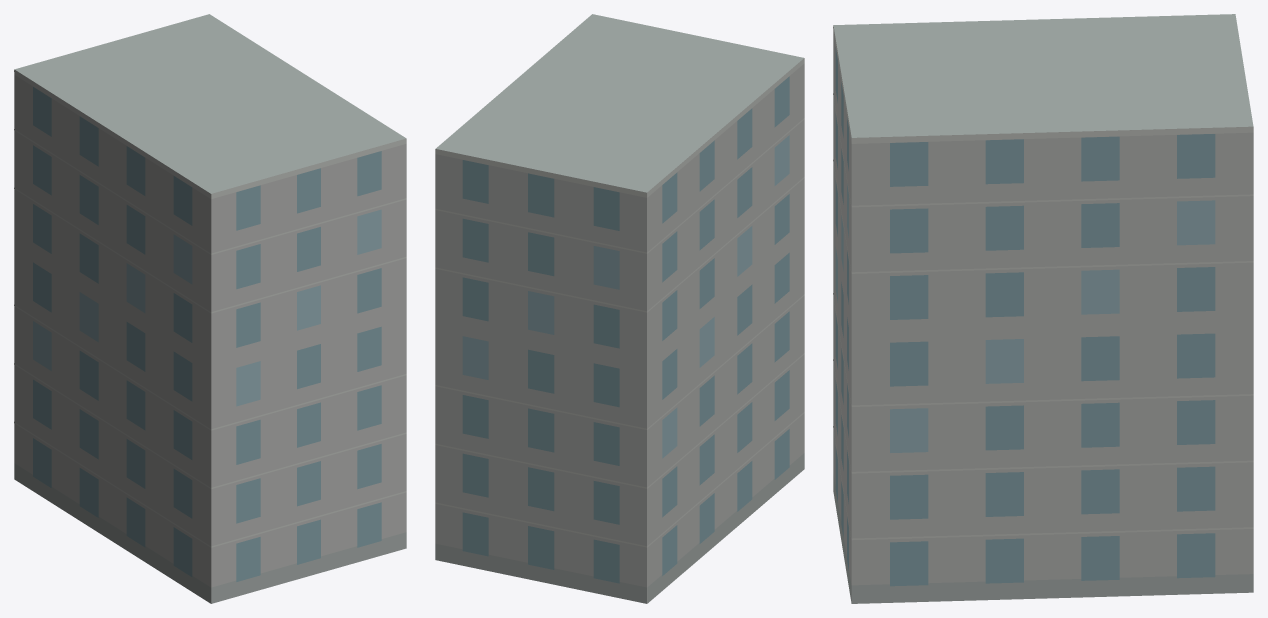
Rendered from survey-upis-32733483.glb.
The picture shows the model from 3 angles, left to right: view 1: azimuth 30°, elevation 25°; view 2: azimuth 150°, elevation 25°; view 3: azimuth 270°, elevation 25°; orthographic projection. The views are drawn at different scales.
Visible parts, largest first — view 1: survey-upis-32733483.tmp; view 2: survey-upis-32733483.tmp; view 3: survey-upis-32733483.tmp.
Boxes of the visible parts, x1,y1,x2,y2 form: survey-upis-32733483.tmp: (14,14,406,603); survey-upis-32733483.tmp: (435,14,804,603); survey-upis-32733483.tmp: (833,14,1253,603).
Bounding box in the file's own units: 10.81 × 18.9 × 15.47.
